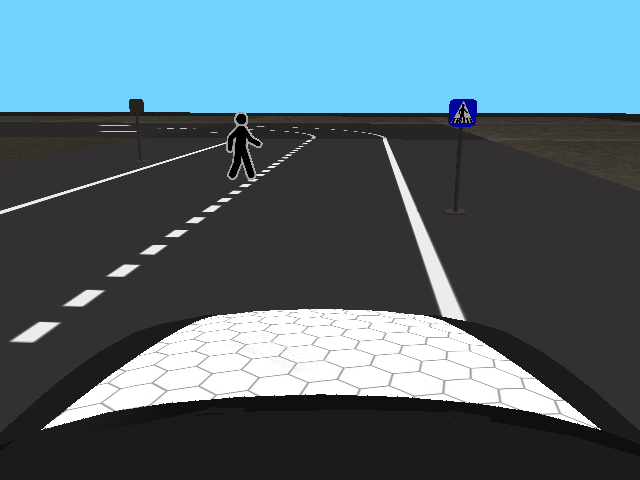pedestrian_cross: (449, 99, 477, 127)
